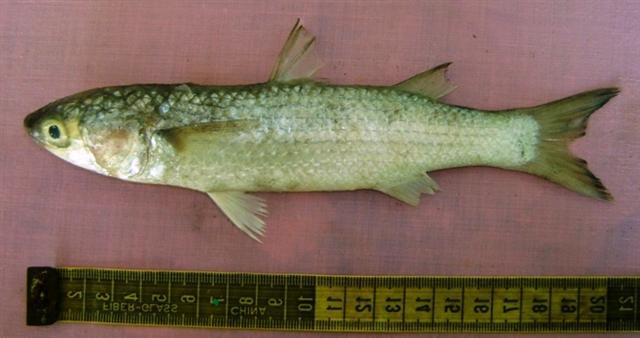Mulut: (18, 90, 62, 160)
Sirip Anal: (374, 153, 450, 219)
Sirip Dada: (152, 111, 272, 151)
Sirip Ekor: (534, 77, 626, 209)
Sirip Perut: (200, 178, 284, 242)
Sirip Punggung: (260, 5, 462, 111)
